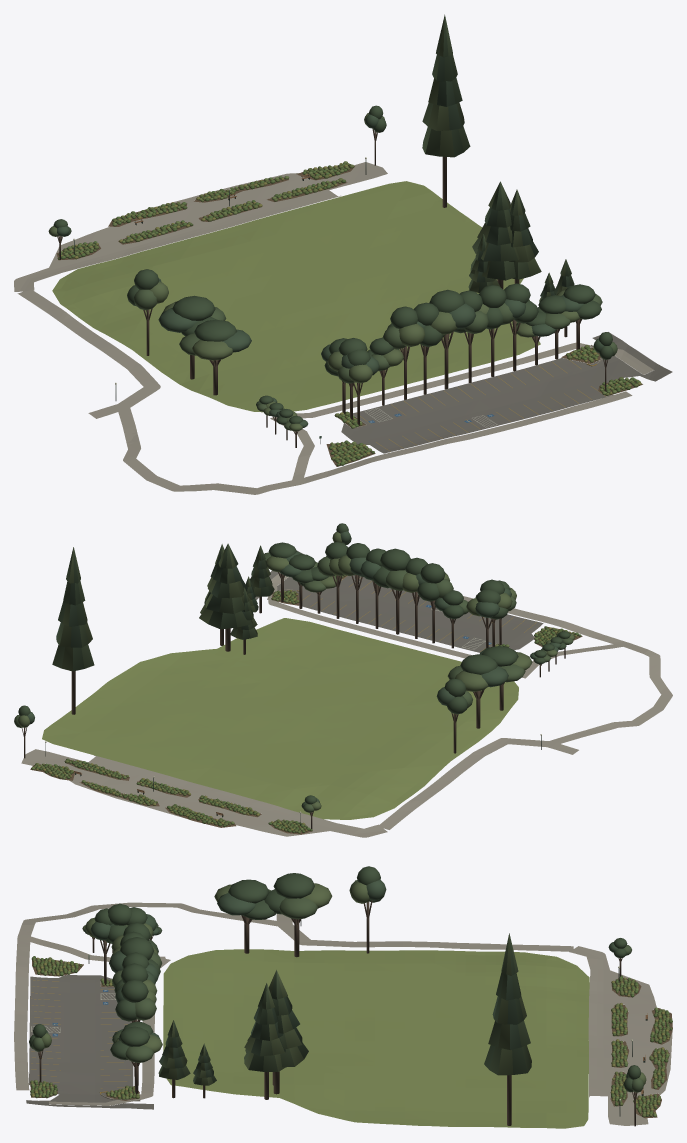
File: site.glb
3 renders of one model, top to bottom at view 1: azimuth 30°, elevation 25°; view 2: azimuth 150°, elevation 25°; view 3: azimuth 270°, elevation 25°, orthographic. The views are drawn at different scales.
Parts seen in each view (by area): view 1: southwest-campus-green-paving, southwest-campus-green-planting, southwest-campus-green-furnishings; view 2: southwest-campus-green-paving, southwest-campus-green-planting, southwest-campus-green-furnishings; view 3: southwest-campus-green-paving, southwest-campus-green-planting, southwest-campus-green-furnishings.
Part boxes in pixels (box(x1,y1,x2,y2)): southwest-campus-green-paving: box(14, 162, 672, 494); southwest-campus-green-planting: box(48, 14, 641, 466); southwest-campus-green-furnishings: box(73, 157, 605, 451); southwest-campus-green-paving: box(21, 550, 672, 837); southwest-campus-green-planting: box(14, 523, 581, 833); southwest-campus-green-furnishings: box(45, 576, 541, 825); southwest-campus-green-paving: box(14, 902, 672, 1128); southwest-campus-green-planting: box(29, 866, 672, 1126); southwest-campus-green-furnishings: box(31, 920, 647, 1116).
Bounding box in the file's own units: 105 × 40.98 × 118.
